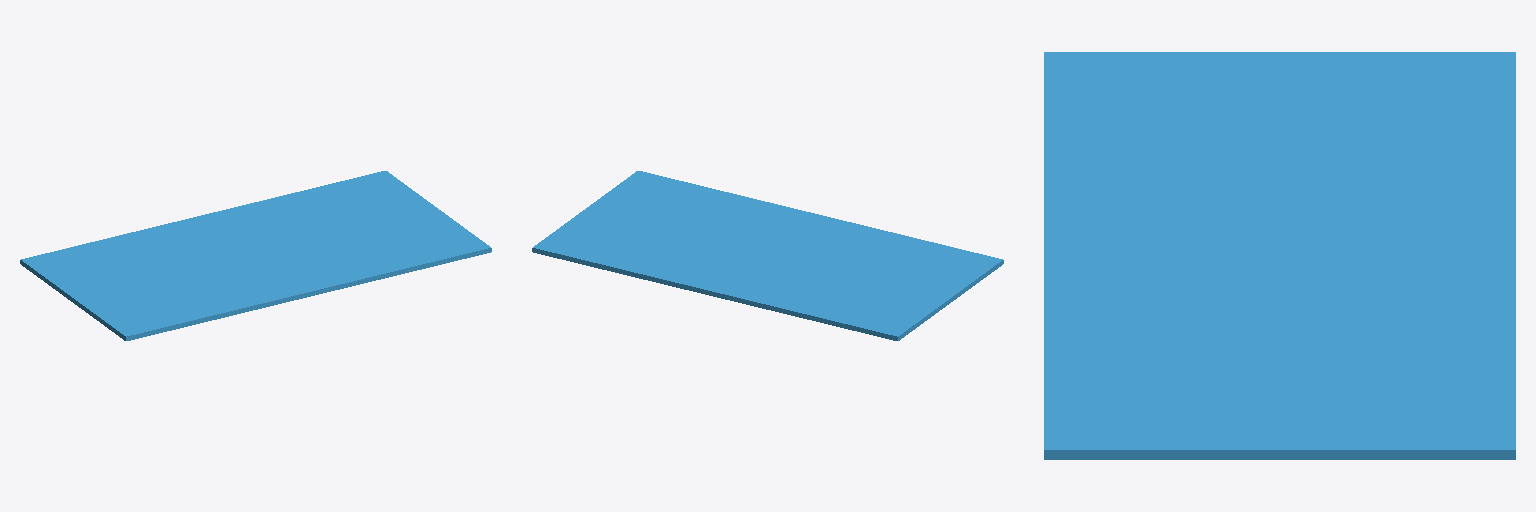
robot.urdf — ground_skeleton:
<?xml version="1.0"?>
<robot name="ground_skeleton">
    <link name="world" />
    <link name="ground_link">
        <inertial>
            <mass value="1.0" />
            <origin xyz="0 0 0" rpy="0 0 0" />
            <inertia ixx="1.0" ixy="0" ixz="0" iyy="1.0" iyz="0" izz="1.0" />
        </inertial>
        <visual>
            <origin xyz="0 0 0" rpy="0 -0 0" />
            <geometry>
                <box size="4.0 2.0 0.05" />
            </geometry>
        </visual>
        <collision>
            <origin xyz="0 0 0" rpy="0 -0 0" />
            <geometry>
                <box size="4.0 2.0 0.05" />
            </geometry>
        </collision>
    </link>
    <joint name="ground_joint" type="fixed">
        <origin xyz="0 0 -1" rpy="0 0 0" />
        <parent link="world" />
        <child link="ground_link" />
    </joint>
</robot>

--- Render facts (derived) ---
3 views of the same robot in one strip: view 1: azimuth 30°, elevation 25°; view 2: azimuth 150°, elevation 25°; view 3: azimuth 270°, elevation 25° (orthographic).
Robot: ground_skeleton — 2 links, 1 joints (1 fixed); root link world; default pose: every joint at zero.
Links seen in each view (by area): view 1: ground_link; view 2: ground_link; view 3: ground_link.
Link boxes in pixels (box(x1,y1,x2,y2)): ground_link: box(20, 171, 491, 340); ground_link: box(532, 171, 1003, 340); ground_link: box(1044, 52, 1515, 459).
Bounding box of the posed robot: 4 × 2 × 0.05 m (x, y, z).
Geometry: primitives only (box / cylinder / sphere), no mesh files.